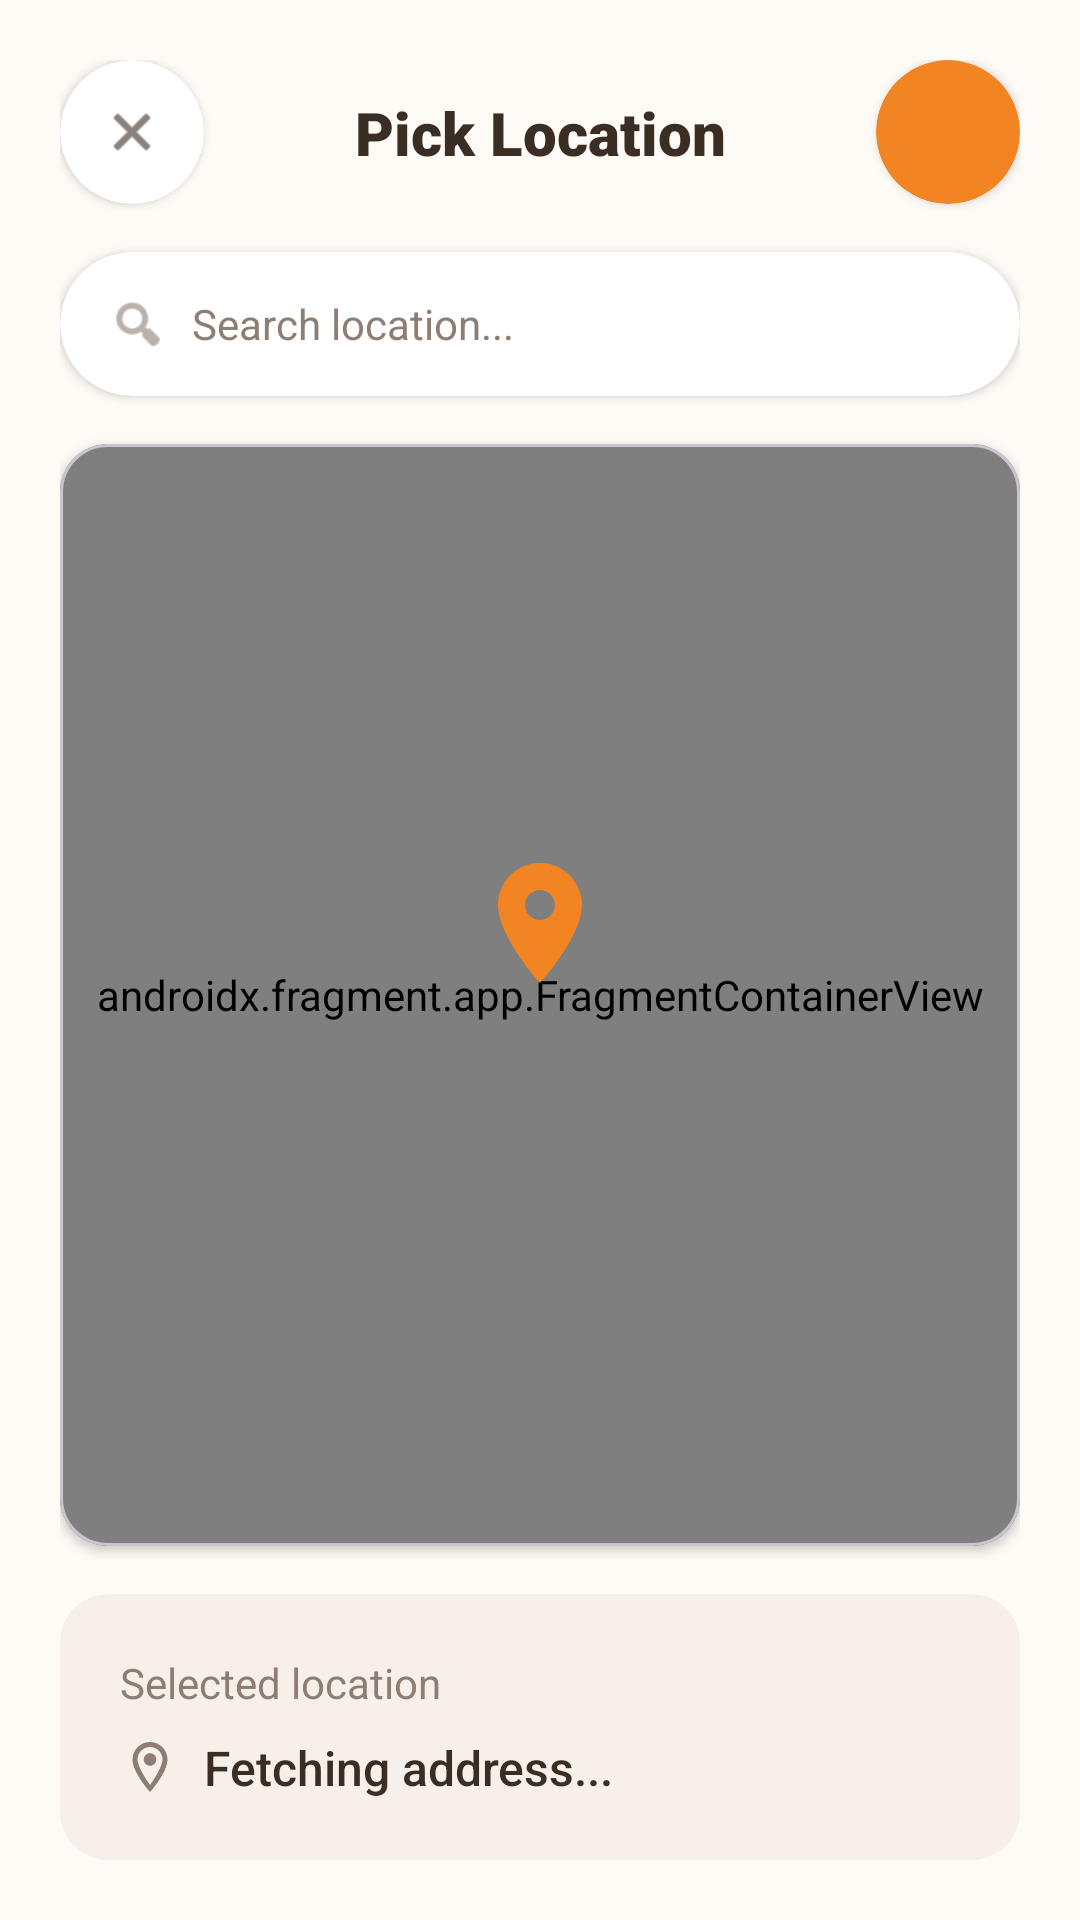

Locate icon controls on the screen. Image size 1080*1920, boxes as (x1, y1, x2, y2).
close clear cancel: (60, 60, 204, 204)
pin: (468, 863, 612, 995)
pin hollow: (132, 1742, 168, 1792)
